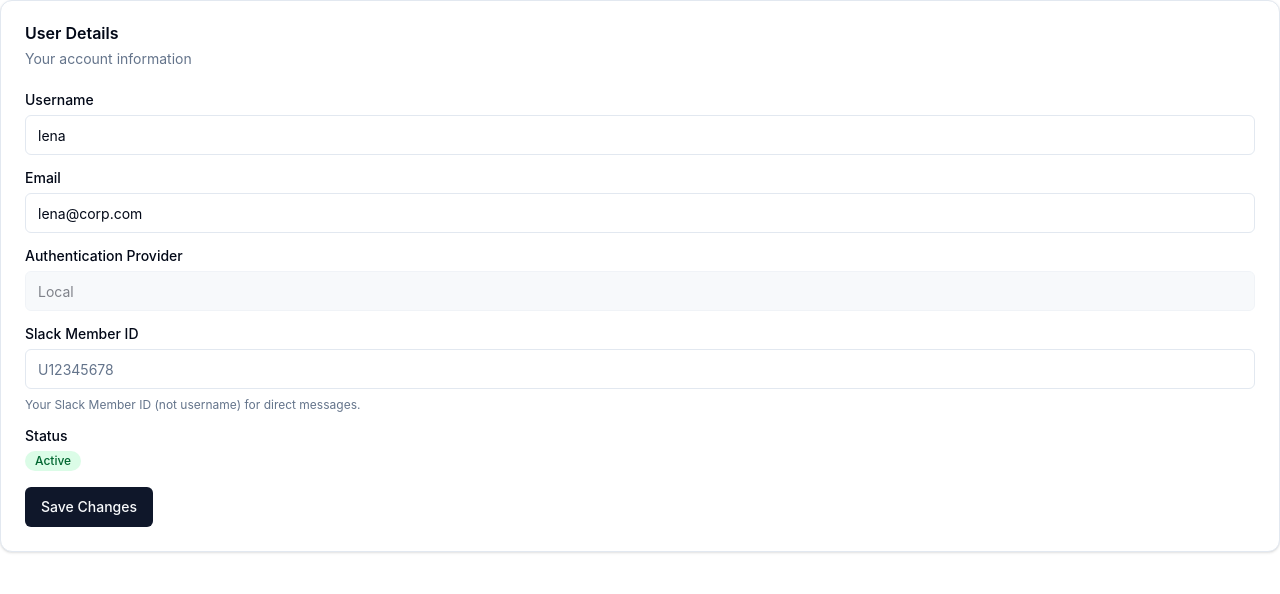
Test case: UserDetailsCard › shows under the field why a new name was refused with 400 and keeps what was typed
Replace the text in the field labelled "Username" with "otto": [640, 135] box [25,115,1255,155]
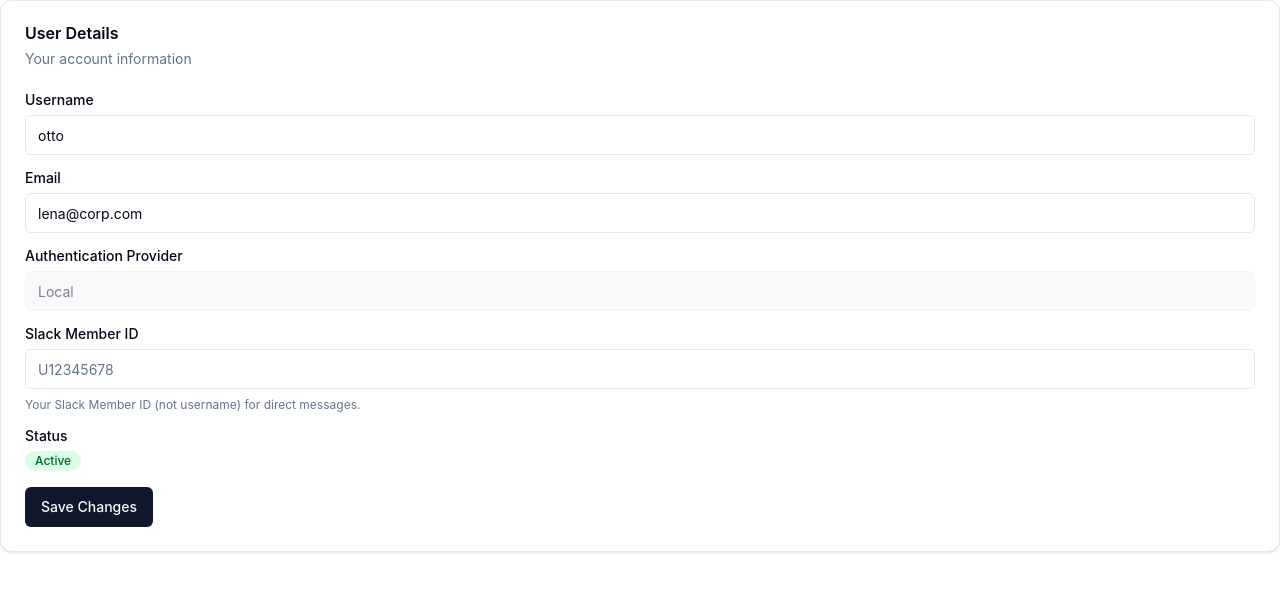
In the field labelled "Slack Member ID": [640, 369] box [25,349,1255,389], type "U123"
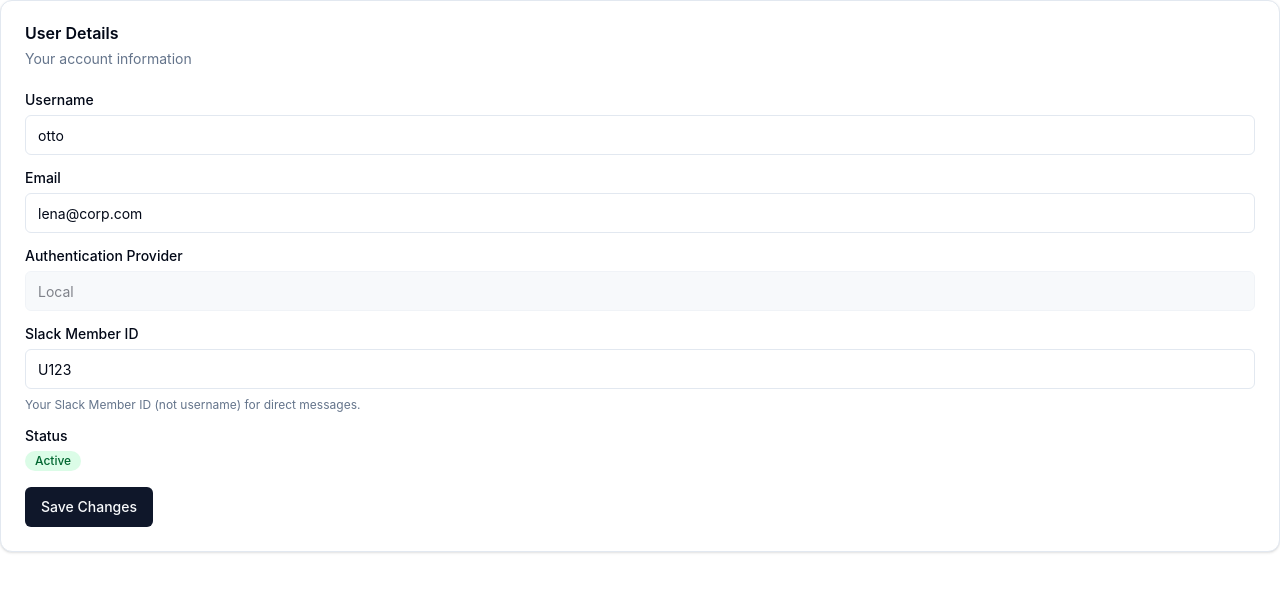
Click the button "Save Changes": [89, 507] box [25,487,153,527]
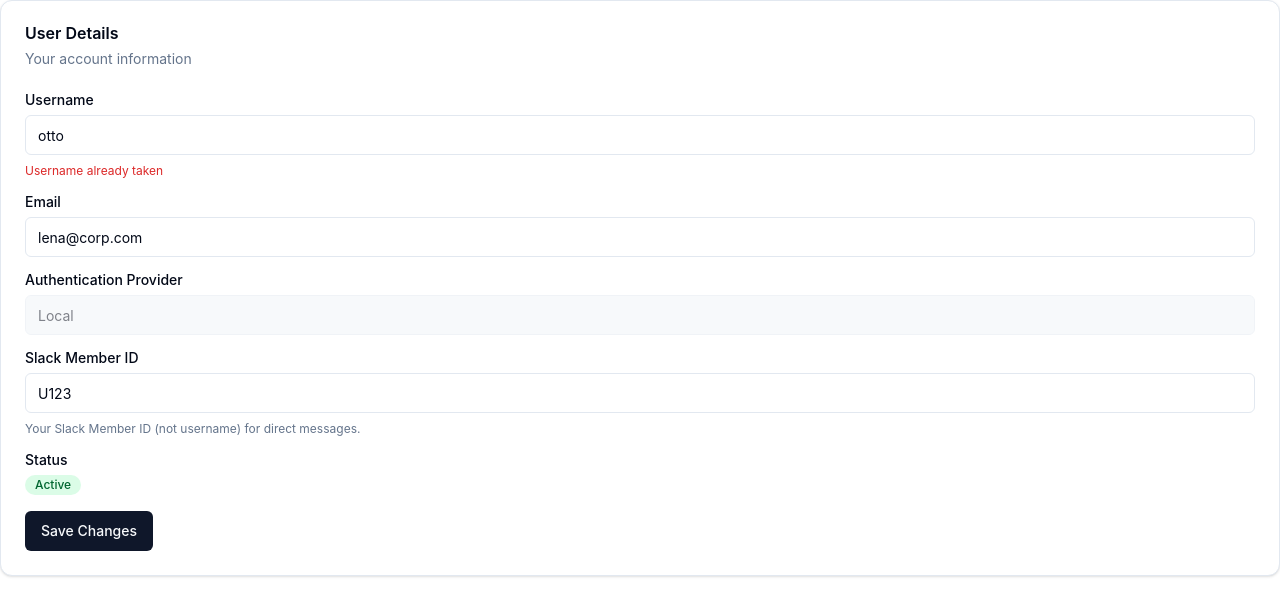
expect the message reads "Username already taken": met, box [25,163,163,178]
Replace the text in the field labelled "Username" with "otto2": [640, 135] box [25,115,1255,155]
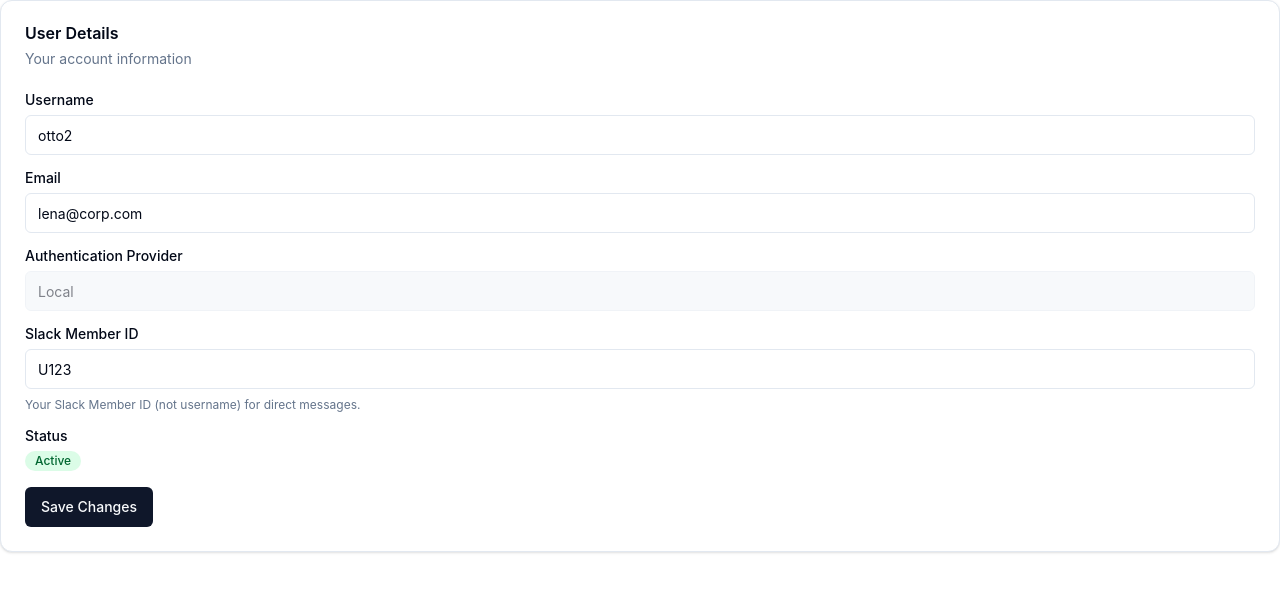
expect the message "Username already taken" is gone: met
